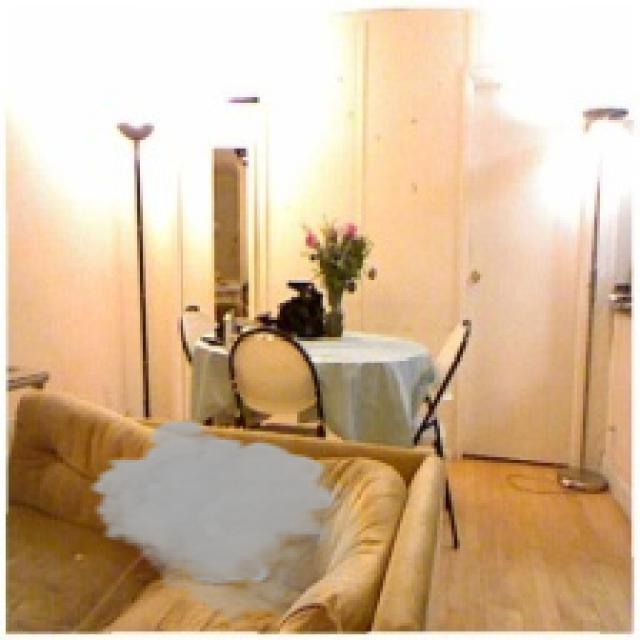smoke: (86, 417, 360, 629)
